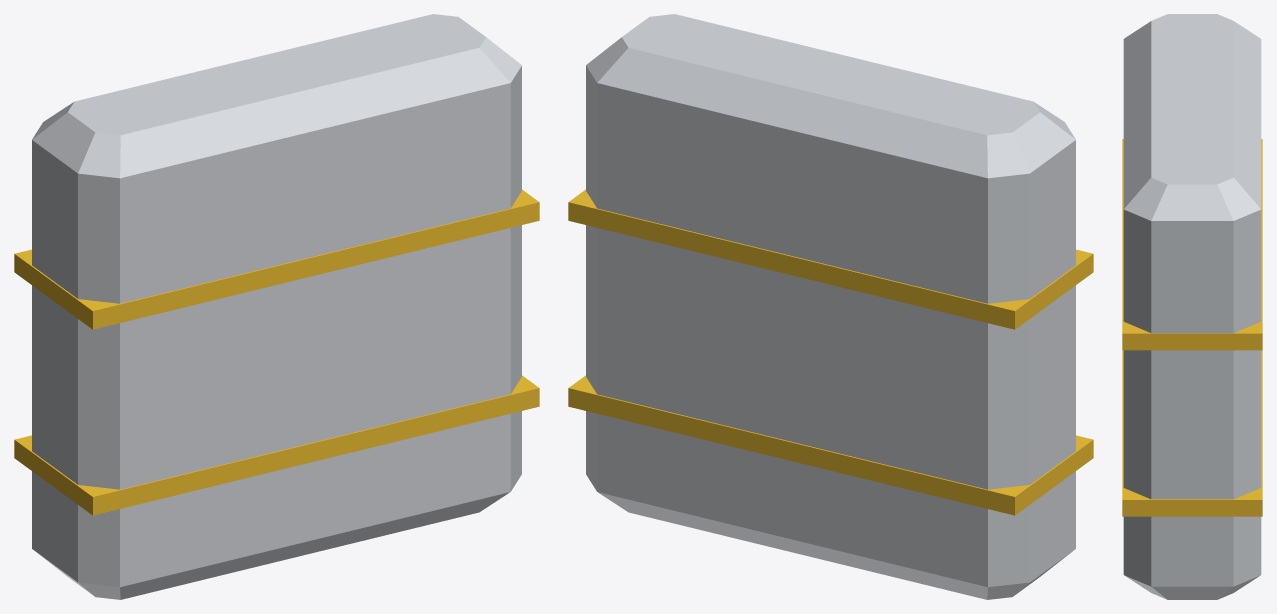
File: tall_wall.glb
3 renders of one model, left to right at view 1: azimuth 30°, elevation 25°; view 2: azimuth 150°, elevation 25°; view 3: azimuth 270°, elevation 25°, orthographic. The views are drawn at different scales.
Visible parts, largest first — view 1: tall_wall; view 2: tall_wall; view 3: tall_wall.
Boxes of the visible parts, x1=… form: tall_wall: x1=14, y1=14, x2=539, y2=599; tall_wall: x1=568, y1=14, x2=1093, y2=599; tall_wall: x1=1122, y1=14, x2=1262, y2=599.
Size of the model in its own units: 2.01 by 2 by 0.612.
